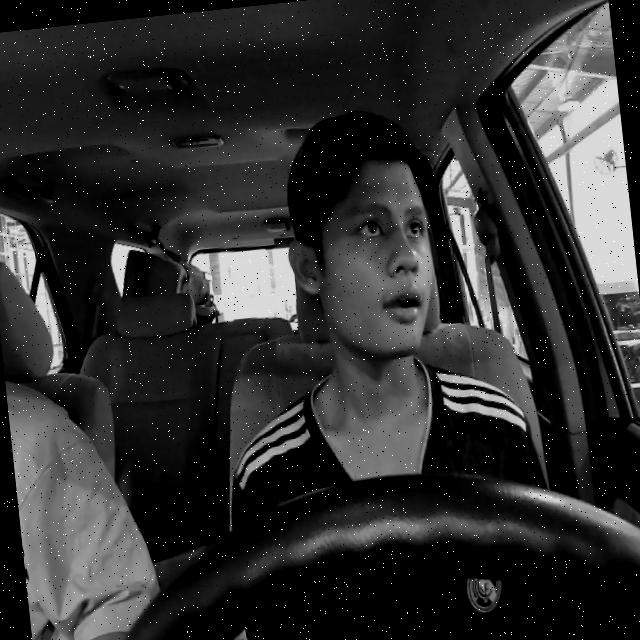yarning: (278, 158, 442, 368)
